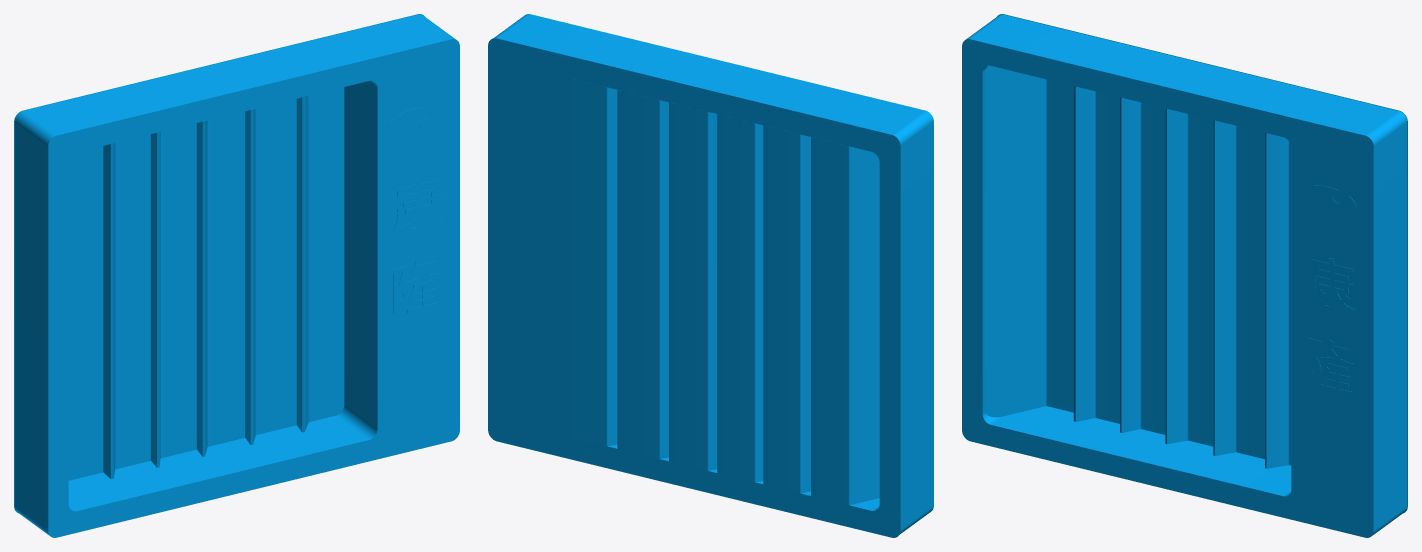
The model's file is 药品盒.FBX.
3 renders of one model, left to right at view 1: azimuth 30°, elevation 25°; view 2: azimuth 150°, elevation 25°; view 3: azimuth 330°, elevation 25°, orthographic.
Parts seen in each view (by area): view 1: Rectangle038, Line008, Text003, Shape004, Rectangle039; view 2: Line008, Rectangle038, Rectangle039; view 3: Line008, Rectangle038, Text003, Shape004, Rectangle039.
Part boxes in pixels (x1,y1,x2,y2): Rectangle038: (14, 14, 459, 537); Line008: (68, 87, 344, 480); Text003: (391, 178, 441, 317); Shape004: (386, 107, 442, 139); Rectangle039: (14, 14, 424, 513); Line008: (569, 78, 879, 505); Rectangle038: (488, 14, 933, 537); Rectangle039: (488, 38, 900, 537); Line008: (985, 65, 1291, 468); Rectangle038: (962, 14, 1407, 537); Text003: (1305, 258, 1354, 395); Shape004: (1300, 185, 1356, 216); Rectangle039: (997, 14, 1407, 513).
Bounding box in the file's own units: 120 × 112 × 17.12.
